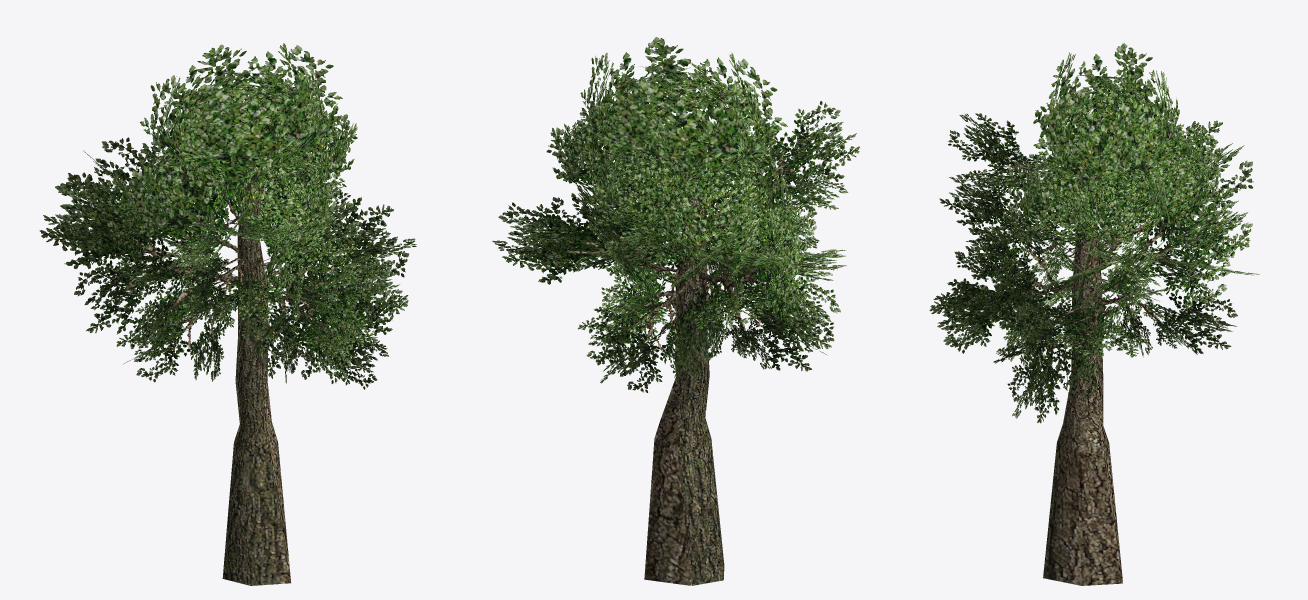
Rendered from oak-1.glb.
3 renders of one model, left to right at view 1: azimuth 30°, elevation 25°; view 2: azimuth 150°, elevation 25°; view 3: azimuth 270°, elevation 25°, orthographic. The views are drawn at different scales.
Parts seen in each view (by area): view 1: oak-1; view 2: oak-1; view 3: oak-1.
Boxes of the visible parts, x1,y1,x2,y2 form: oak-1: (39,43,416,585); oak-1: (492,37,859,585); oak-1: (929,43,1259,585).
Bounding box in the file's own units: 12.94 × 16.95 × 11.53.
2 materials, 2 textured.
